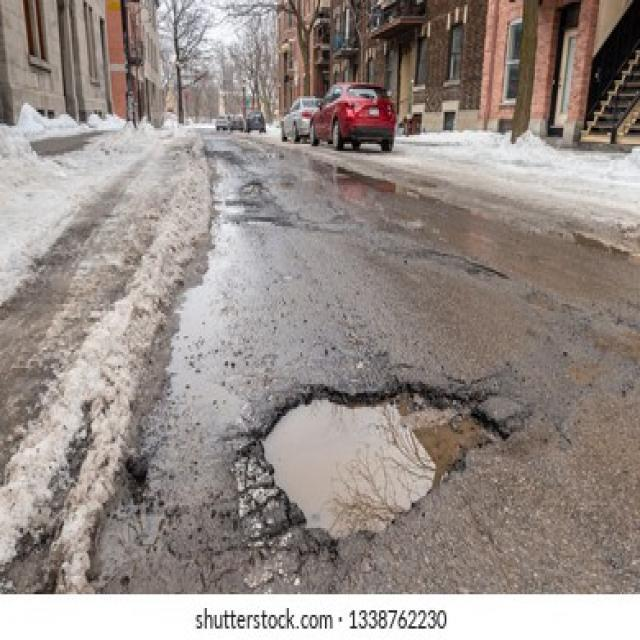Pothole: (256, 379, 512, 544)
